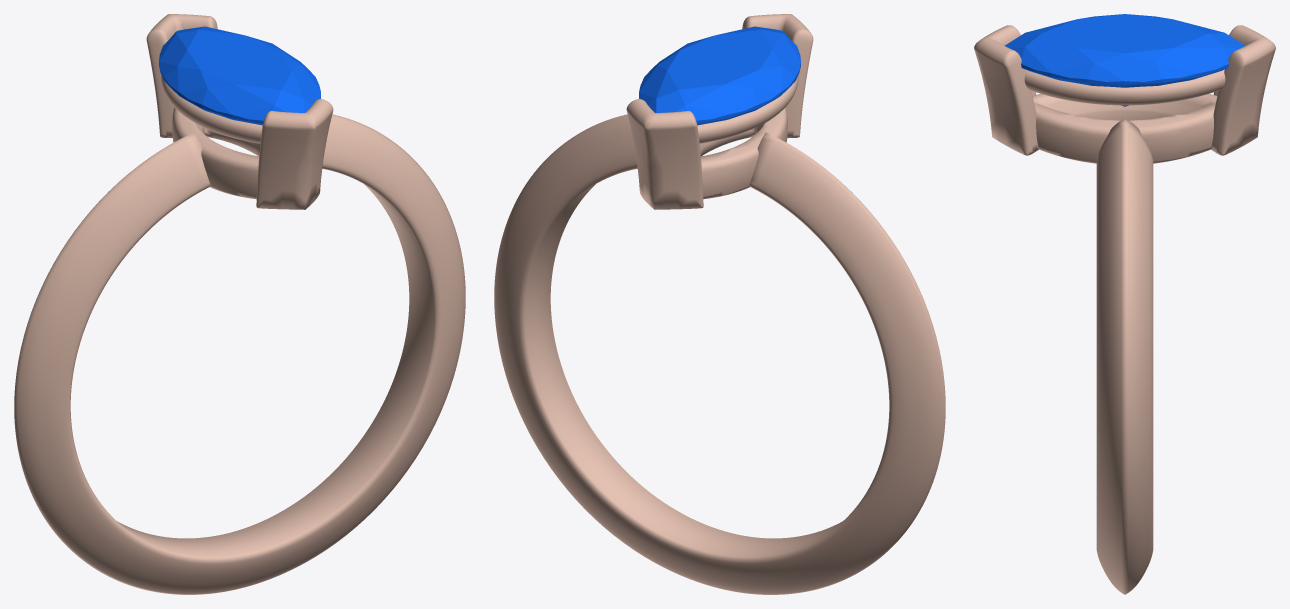
Rendered from bluesapphire-marquise-rosegold-protectededges2prongs-knifeedge-nosidestones.glb.
The picture shows the model from 3 angles, left to right: view 1: azimuth 30°, elevation 25°; view 2: azimuth 150°, elevation 25°; view 3: azimuth 270°, elevation 25°; orthographic projection.
Parts seen in each view (by area): view 1: metal.003, stone; view 2: metal.003, stone; view 3: metal.003, stone.
Boxes of the visible parts, left/top/right/bottom form: metal.003: left=14, top=14, right=465, bottom=594; stone: left=159, top=26, right=320, bottom=125; metal.003: left=494, top=14, right=945, bottom=594; stone: left=639, top=26, right=800, bottom=125; metal.003: left=974, top=25, right=1275, bottom=594; stone: left=1004, top=14, right=1245, bottom=106.
Size of the model in its own units: 20.49 by 22.93 by 11.69.
